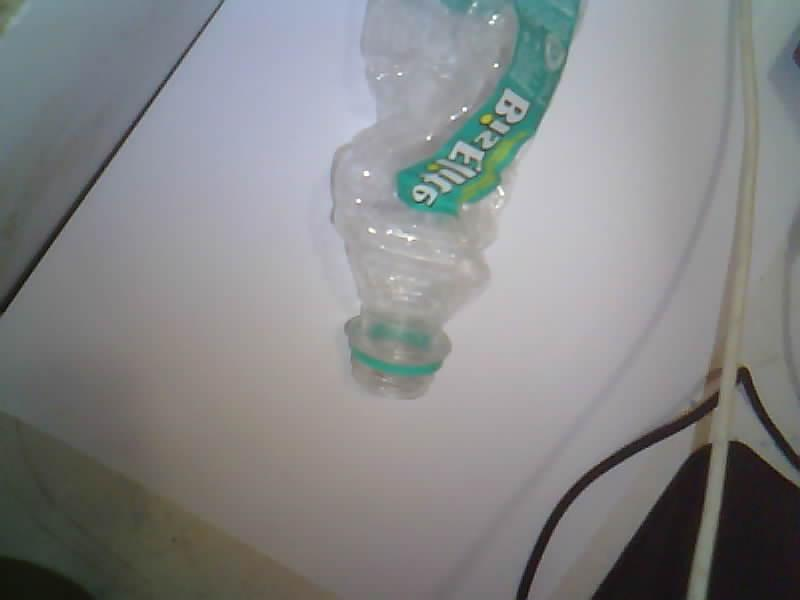non-biodegradable: (331, 0, 579, 397)
